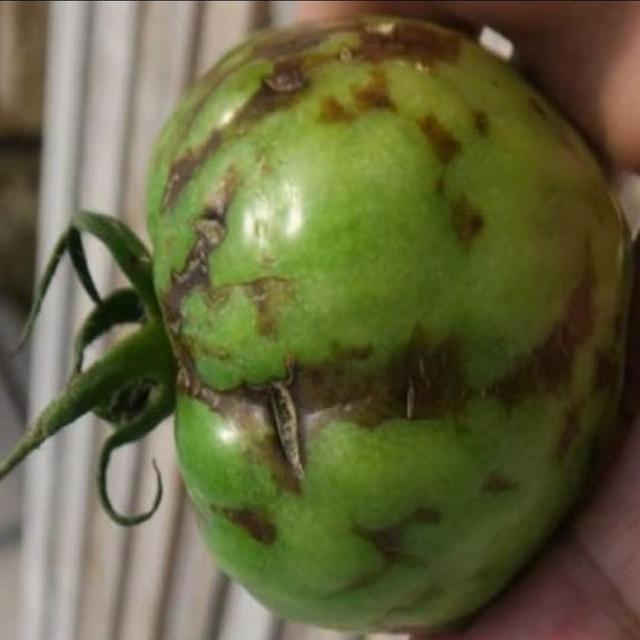Spotted wilt Virus Fruit: (59, 97, 176, 389)
